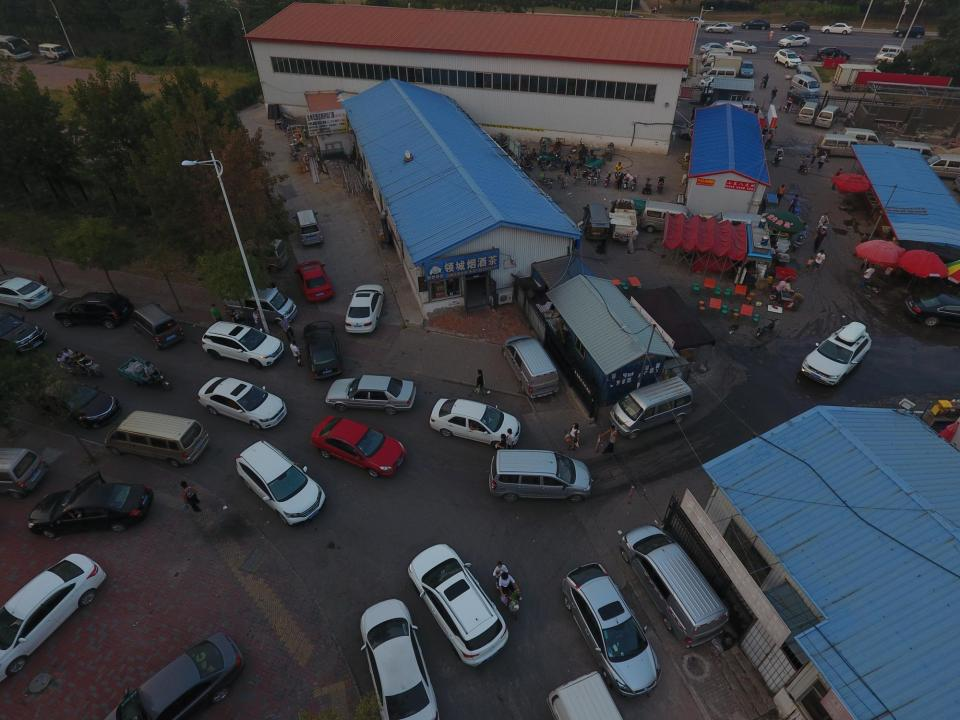bus: (0, 35, 32, 61)
car: (0, 554, 106, 684), (561, 563, 662, 697), (407, 544, 509, 668), (103, 632, 246, 720), (361, 597, 442, 720), (235, 440, 326, 526), (26, 480, 155, 538), (311, 415, 406, 478), (198, 374, 288, 430), (428, 398, 520, 450), (800, 321, 871, 388), (30, 377, 120, 429), (201, 320, 284, 368), (325, 374, 417, 413), (52, 292, 132, 329), (903, 289, 960, 331), (302, 323, 343, 380), (346, 285, 384, 335), (0, 277, 54, 311), (0, 317, 48, 354), (296, 260, 331, 303), (788, 88, 820, 110), (774, 49, 803, 68), (874, 51, 909, 66), (725, 40, 757, 54), (700, 42, 731, 56), (893, 25, 925, 38), (778, 35, 810, 48), (700, 77, 732, 90), (817, 47, 851, 59), (820, 23, 852, 35), (705, 22, 734, 34), (781, 20, 810, 32), (741, 19, 771, 30), (618, 14, 642, 24), (682, 17, 706, 27), (740, 62, 755, 78)
truck: (832, 64, 884, 93), (611, 198, 638, 242), (700, 56, 743, 75)
van: (621, 524, 730, 648), (106, 409, 208, 468), (489, 450, 592, 504), (608, 376, 692, 440), (502, 334, 560, 398), (224, 286, 298, 326), (132, 301, 186, 350), (222, 240, 288, 275), (0, 450, 48, 498), (704, 213, 763, 244), (640, 201, 694, 234), (920, 153, 960, 181), (295, 209, 324, 247), (582, 204, 610, 241), (818, 135, 862, 158), (842, 127, 885, 150), (888, 141, 930, 164), (679, 120, 720, 140), (702, 100, 742, 119), (791, 73, 820, 98), (797, 100, 821, 126), (815, 104, 838, 129), (39, 42, 69, 60), (878, 43, 906, 61), (702, 68, 736, 81), (705, 52, 735, 66), (701, 49, 733, 62), (796, 65, 814, 84)
